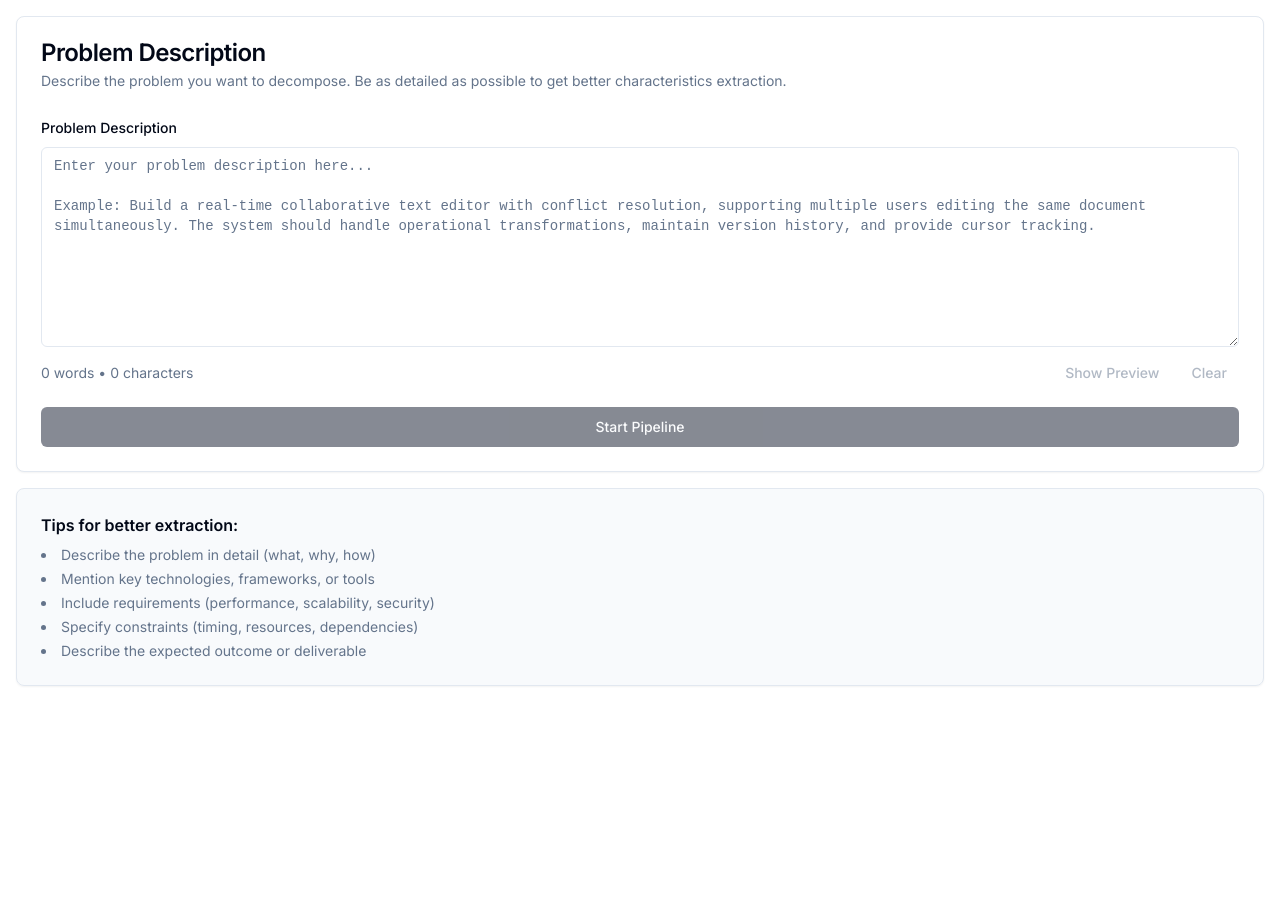
ProblemInputDisplay › Text Input › should clear text when clear button is clicked
Replace the text in the text box named "Problem description input" with "Test text" at (640, 247), box x1=41 y1=147 x2=1239 y2=347
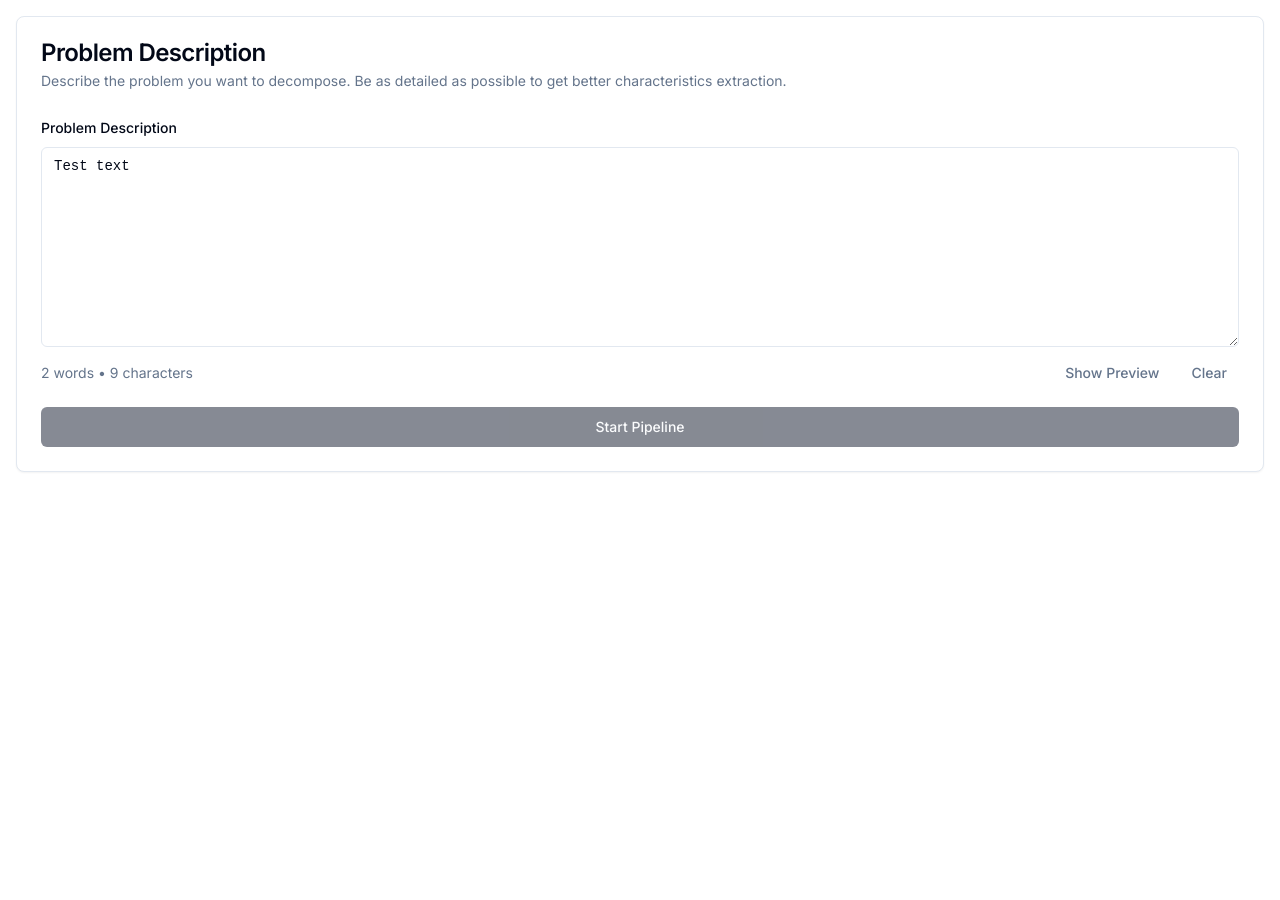
Click the button "Clear" at (1209, 373), box x1=1180 y1=355 x2=1239 y2=391
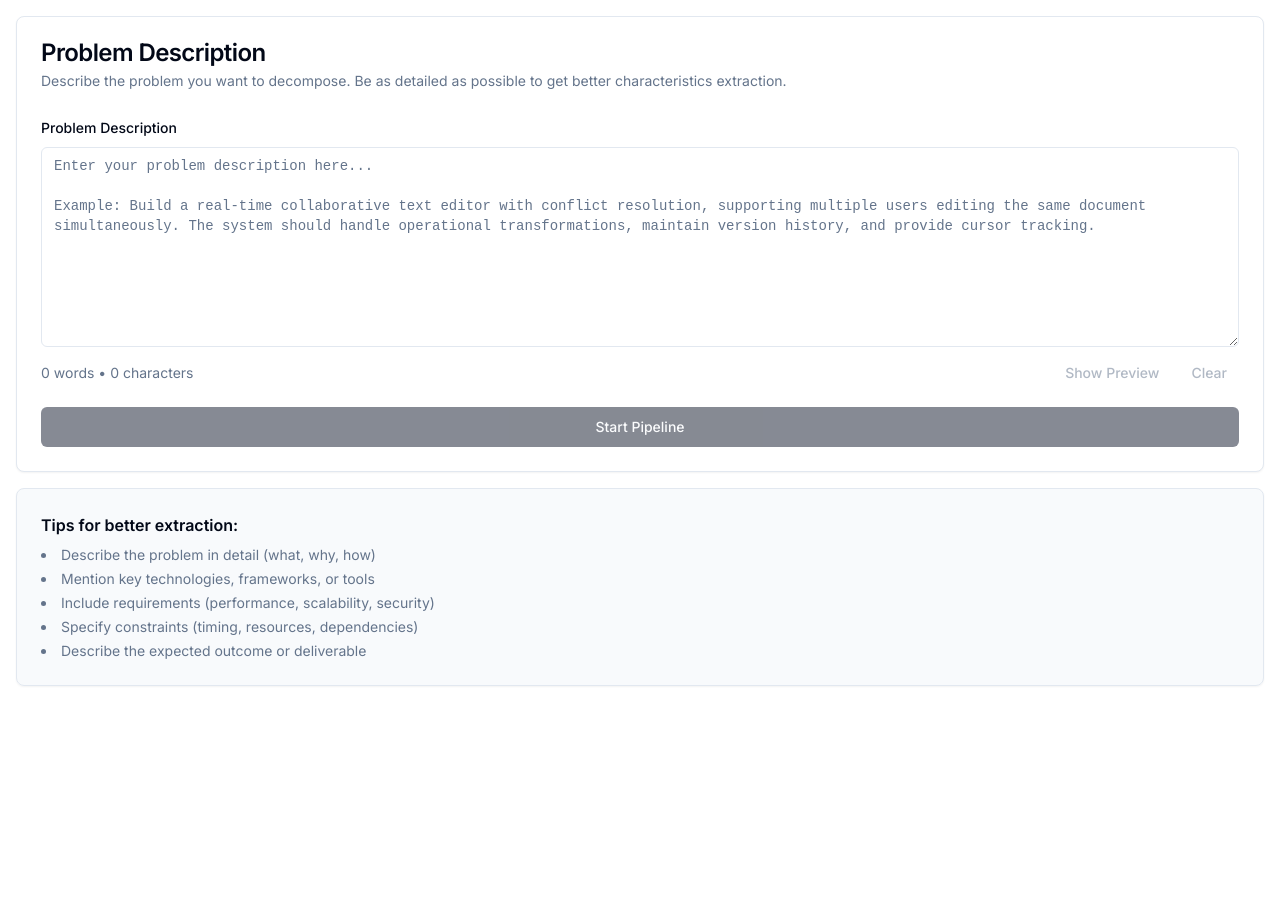
Expected: the text box named "Problem description input" is empty, x1=41 y1=147 x2=1239 y2=347
